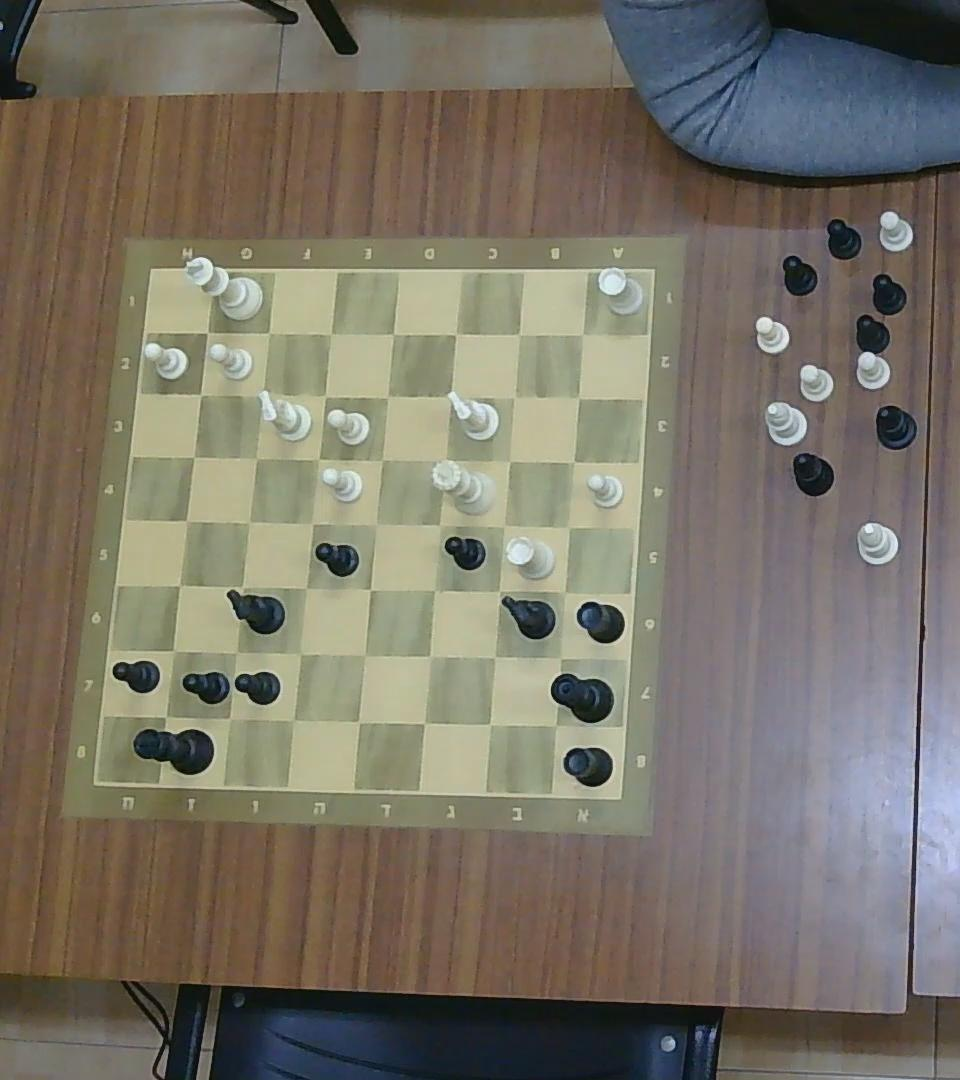xcorner: (215, 703, 241, 731), (411, 708, 437, 735), (279, 705, 305, 732), (153, 702, 179, 728), (476, 711, 503, 736), (417, 643, 442, 669), (167, 572, 192, 598), (543, 712, 568, 738), (352, 642, 377, 667), (481, 645, 506, 670), (174, 507, 198, 532), (346, 709, 370, 734), (561, 448, 585, 472), (288, 640, 311, 665), (224, 640, 247, 665), (318, 321, 341, 346), (364, 512, 387, 536), (236, 509, 259, 533), (376, 384, 399, 408), (294, 575, 317, 599), (421, 578, 444, 602), (162, 639, 185, 663), (188, 381, 211, 405), (432, 448, 455, 472), (427, 513, 450, 536), (196, 320, 218, 344), (558, 514, 580, 538), (257, 320, 279, 344), (438, 384, 460, 408), (182, 445, 204, 468), (300, 512, 323, 534), (381, 322, 403, 345), (371, 447, 393, 470), (444, 322, 466, 345), (359, 577, 381, 600), (487, 579, 510, 601), (251, 381, 272, 405), (245, 446, 267, 468), (568, 385, 590, 407), (230, 576, 252, 598), (548, 647, 571, 668), (499, 448, 519, 472), (509, 323, 530, 345), (493, 513, 513, 536), (572, 323, 592, 345), (553, 582, 575, 602), (308, 448, 328, 469), (504, 386, 524, 406), (315, 386, 334, 406)
